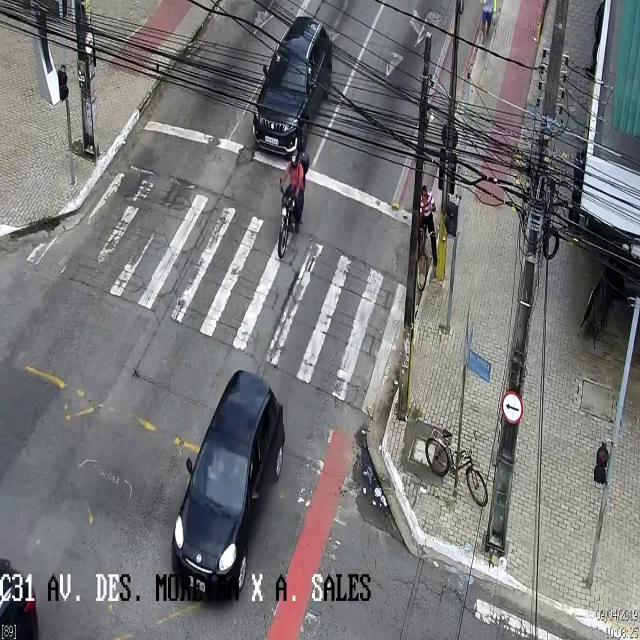Car: (171, 369, 287, 601), (252, 17, 332, 153)
Motorcycle: (278, 149, 310, 259)
